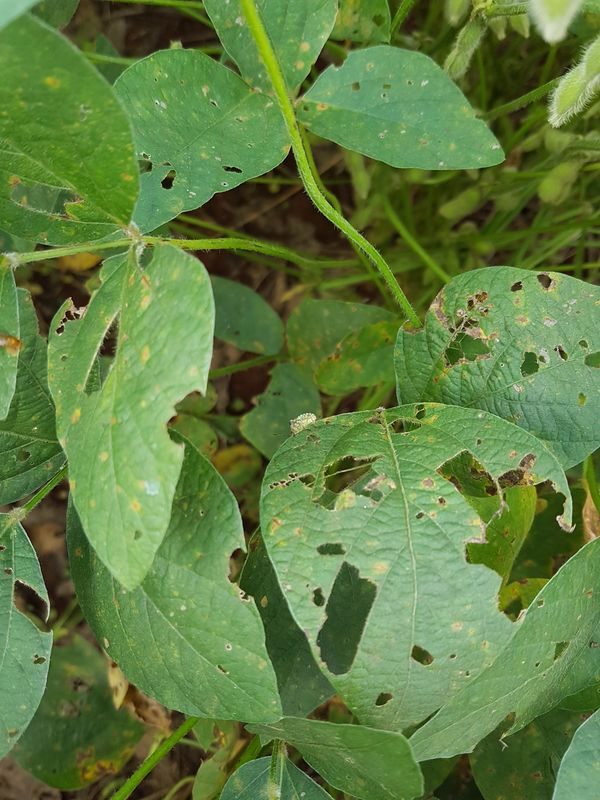Euschistus_heros_ninfa: (279, 406, 325, 445)
